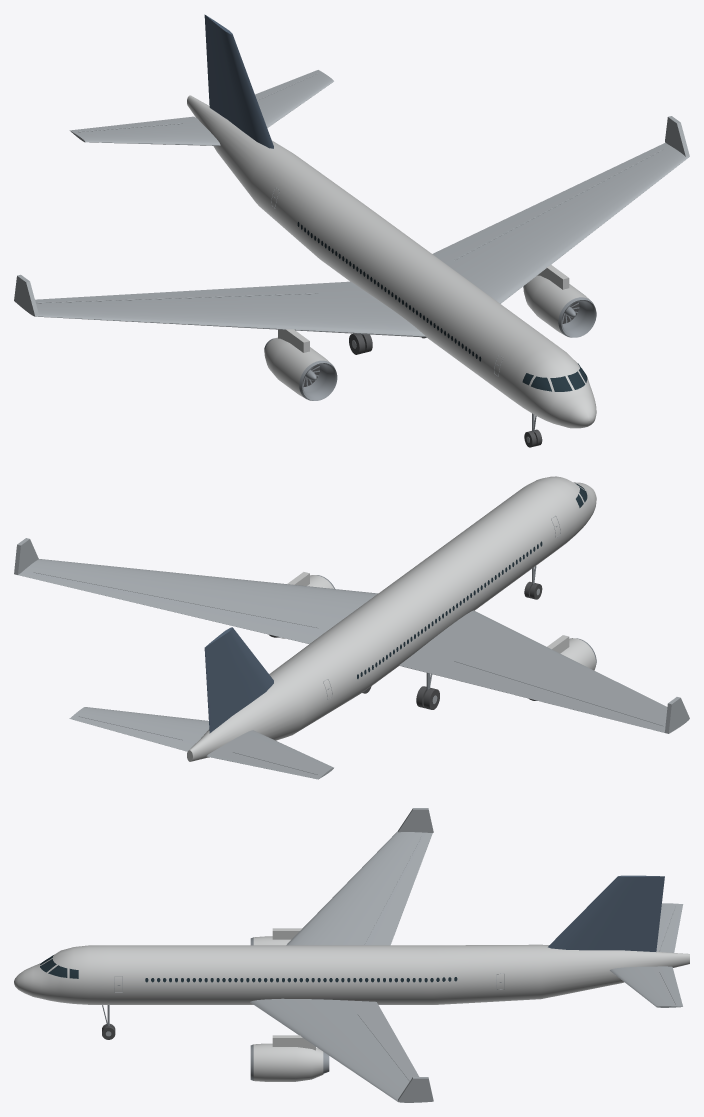
Rendered from aircraft-widebody.glb.
The picture shows the model from 3 angles, top to bottom: view 1: azimuth 30°, elevation 25°; view 2: azimuth 150°, elevation 25°; view 3: azimuth 270°, elevation 25°; orthographic projection. The views are drawn at different scales.
Parts seen in each view (by area): view 1: aircraft-widebody, gear; view 2: aircraft-widebody, gear; view 3: aircraft-widebody.
Boxes of the visible parts, x1,y1,x2,y2 form: aircraft-widebody: [14, 14, 689, 428]; gear: [349, 333, 542, 447]; aircraft-widebody: [14, 476, 689, 779]; gear: [362, 566, 542, 709]; aircraft-widebody: [14, 808, 689, 1102].
Size of the model in its own units: 60.3 by 16.8 by 63.7.
